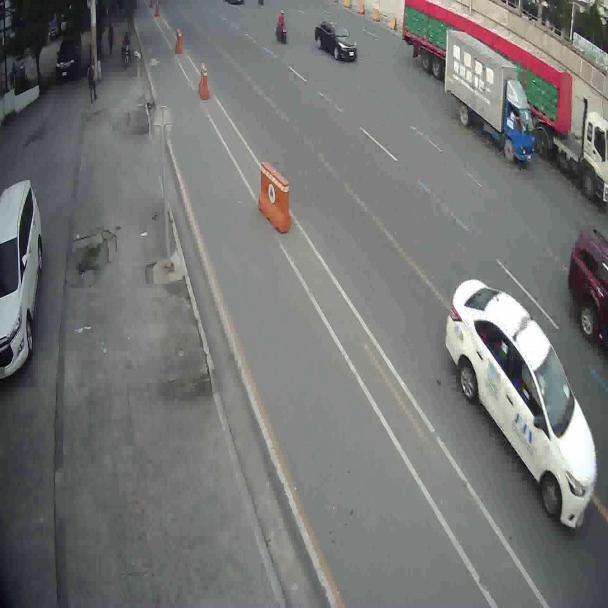vehicle: (447, 272, 598, 542), (443, 22, 538, 182), (0, 170, 42, 392)
